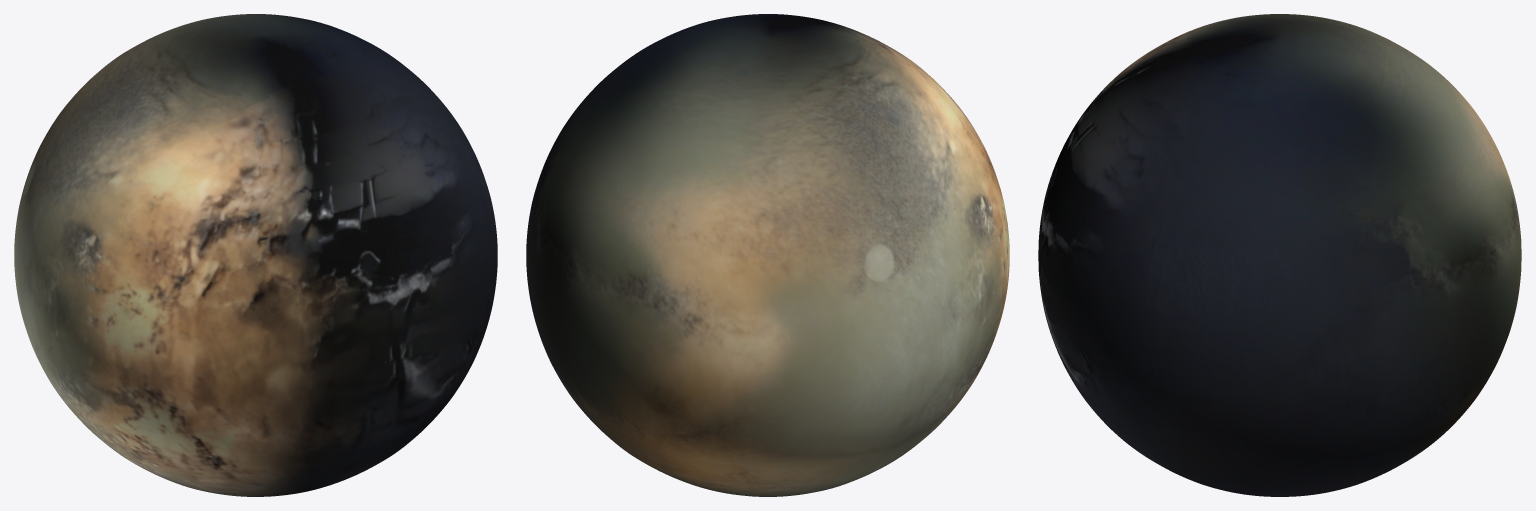
The model's file is kepller_186f.glb.
3 views of the same model, side by side, from view 1: azimuth 30°, elevation 25°; view 2: azimuth 150°, elevation 25°; view 3: azimuth 270°, elevation 25° (orthographic).
Size of the model in its own units: 2 by 2 by 2.
1 material, 1 textured.
